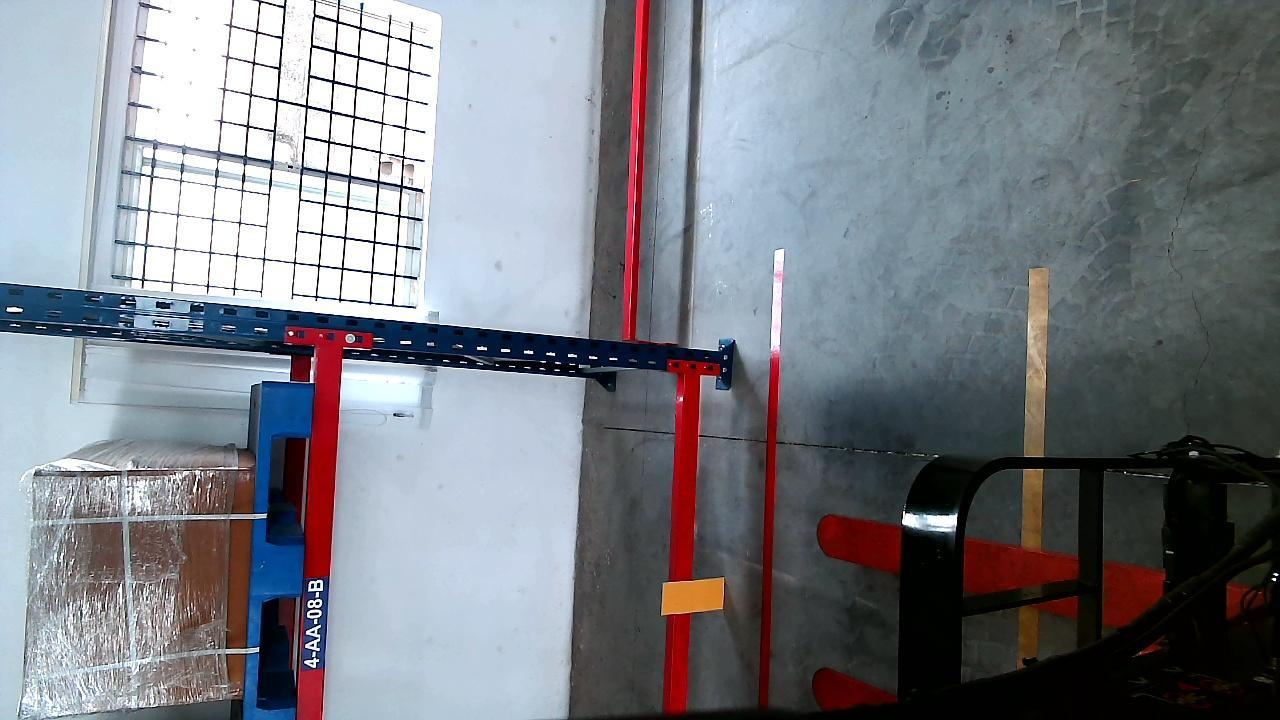red_line: (759, 246, 785, 713)
yellow_line: (1018, 269, 1052, 546)
